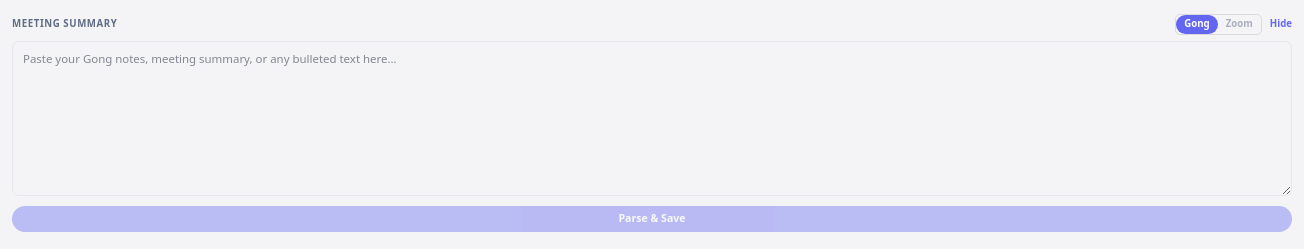
Scenario: GongSummaryPanel — provider toggle › shows a Zoom-specific placeholder on the Zoom side
The width and height of the screenshot is (1304, 249).
Click the button "Zoom": point(1239, 24) [1218,15,1261,34]
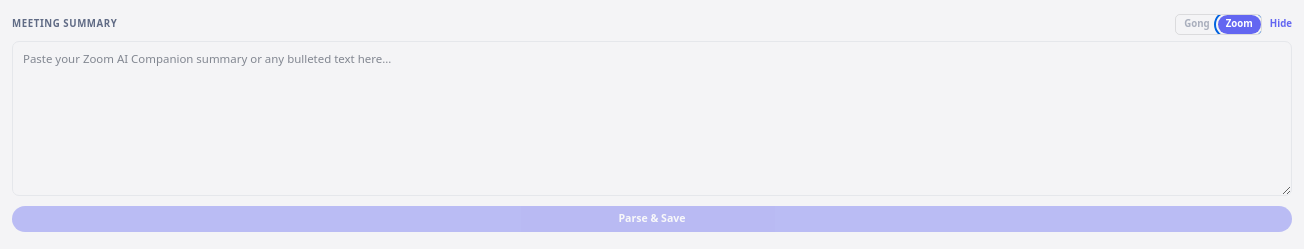
Expected: the text box with placeholder "Zoom AI Companion summary" is shown
